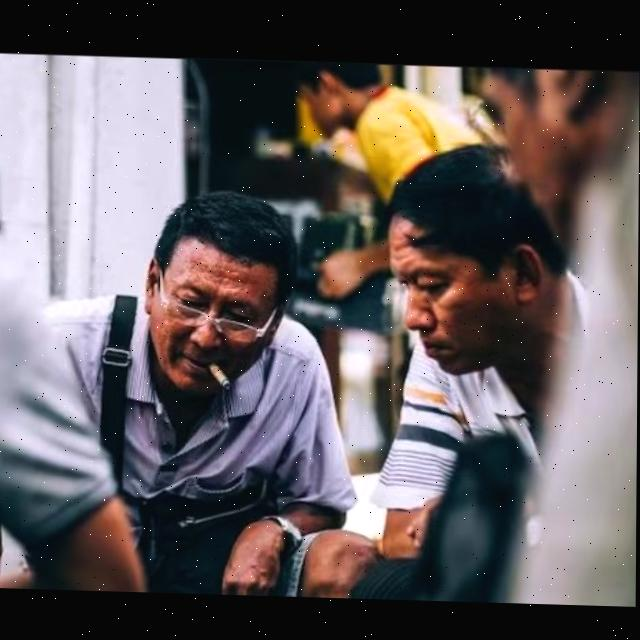cigarette: (208, 361, 231, 389)
